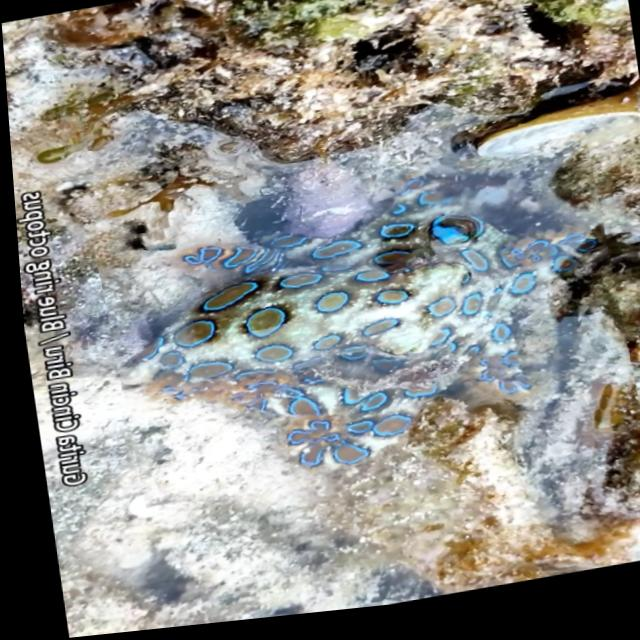blue_ringed_octopus: (87, 146, 631, 511)
